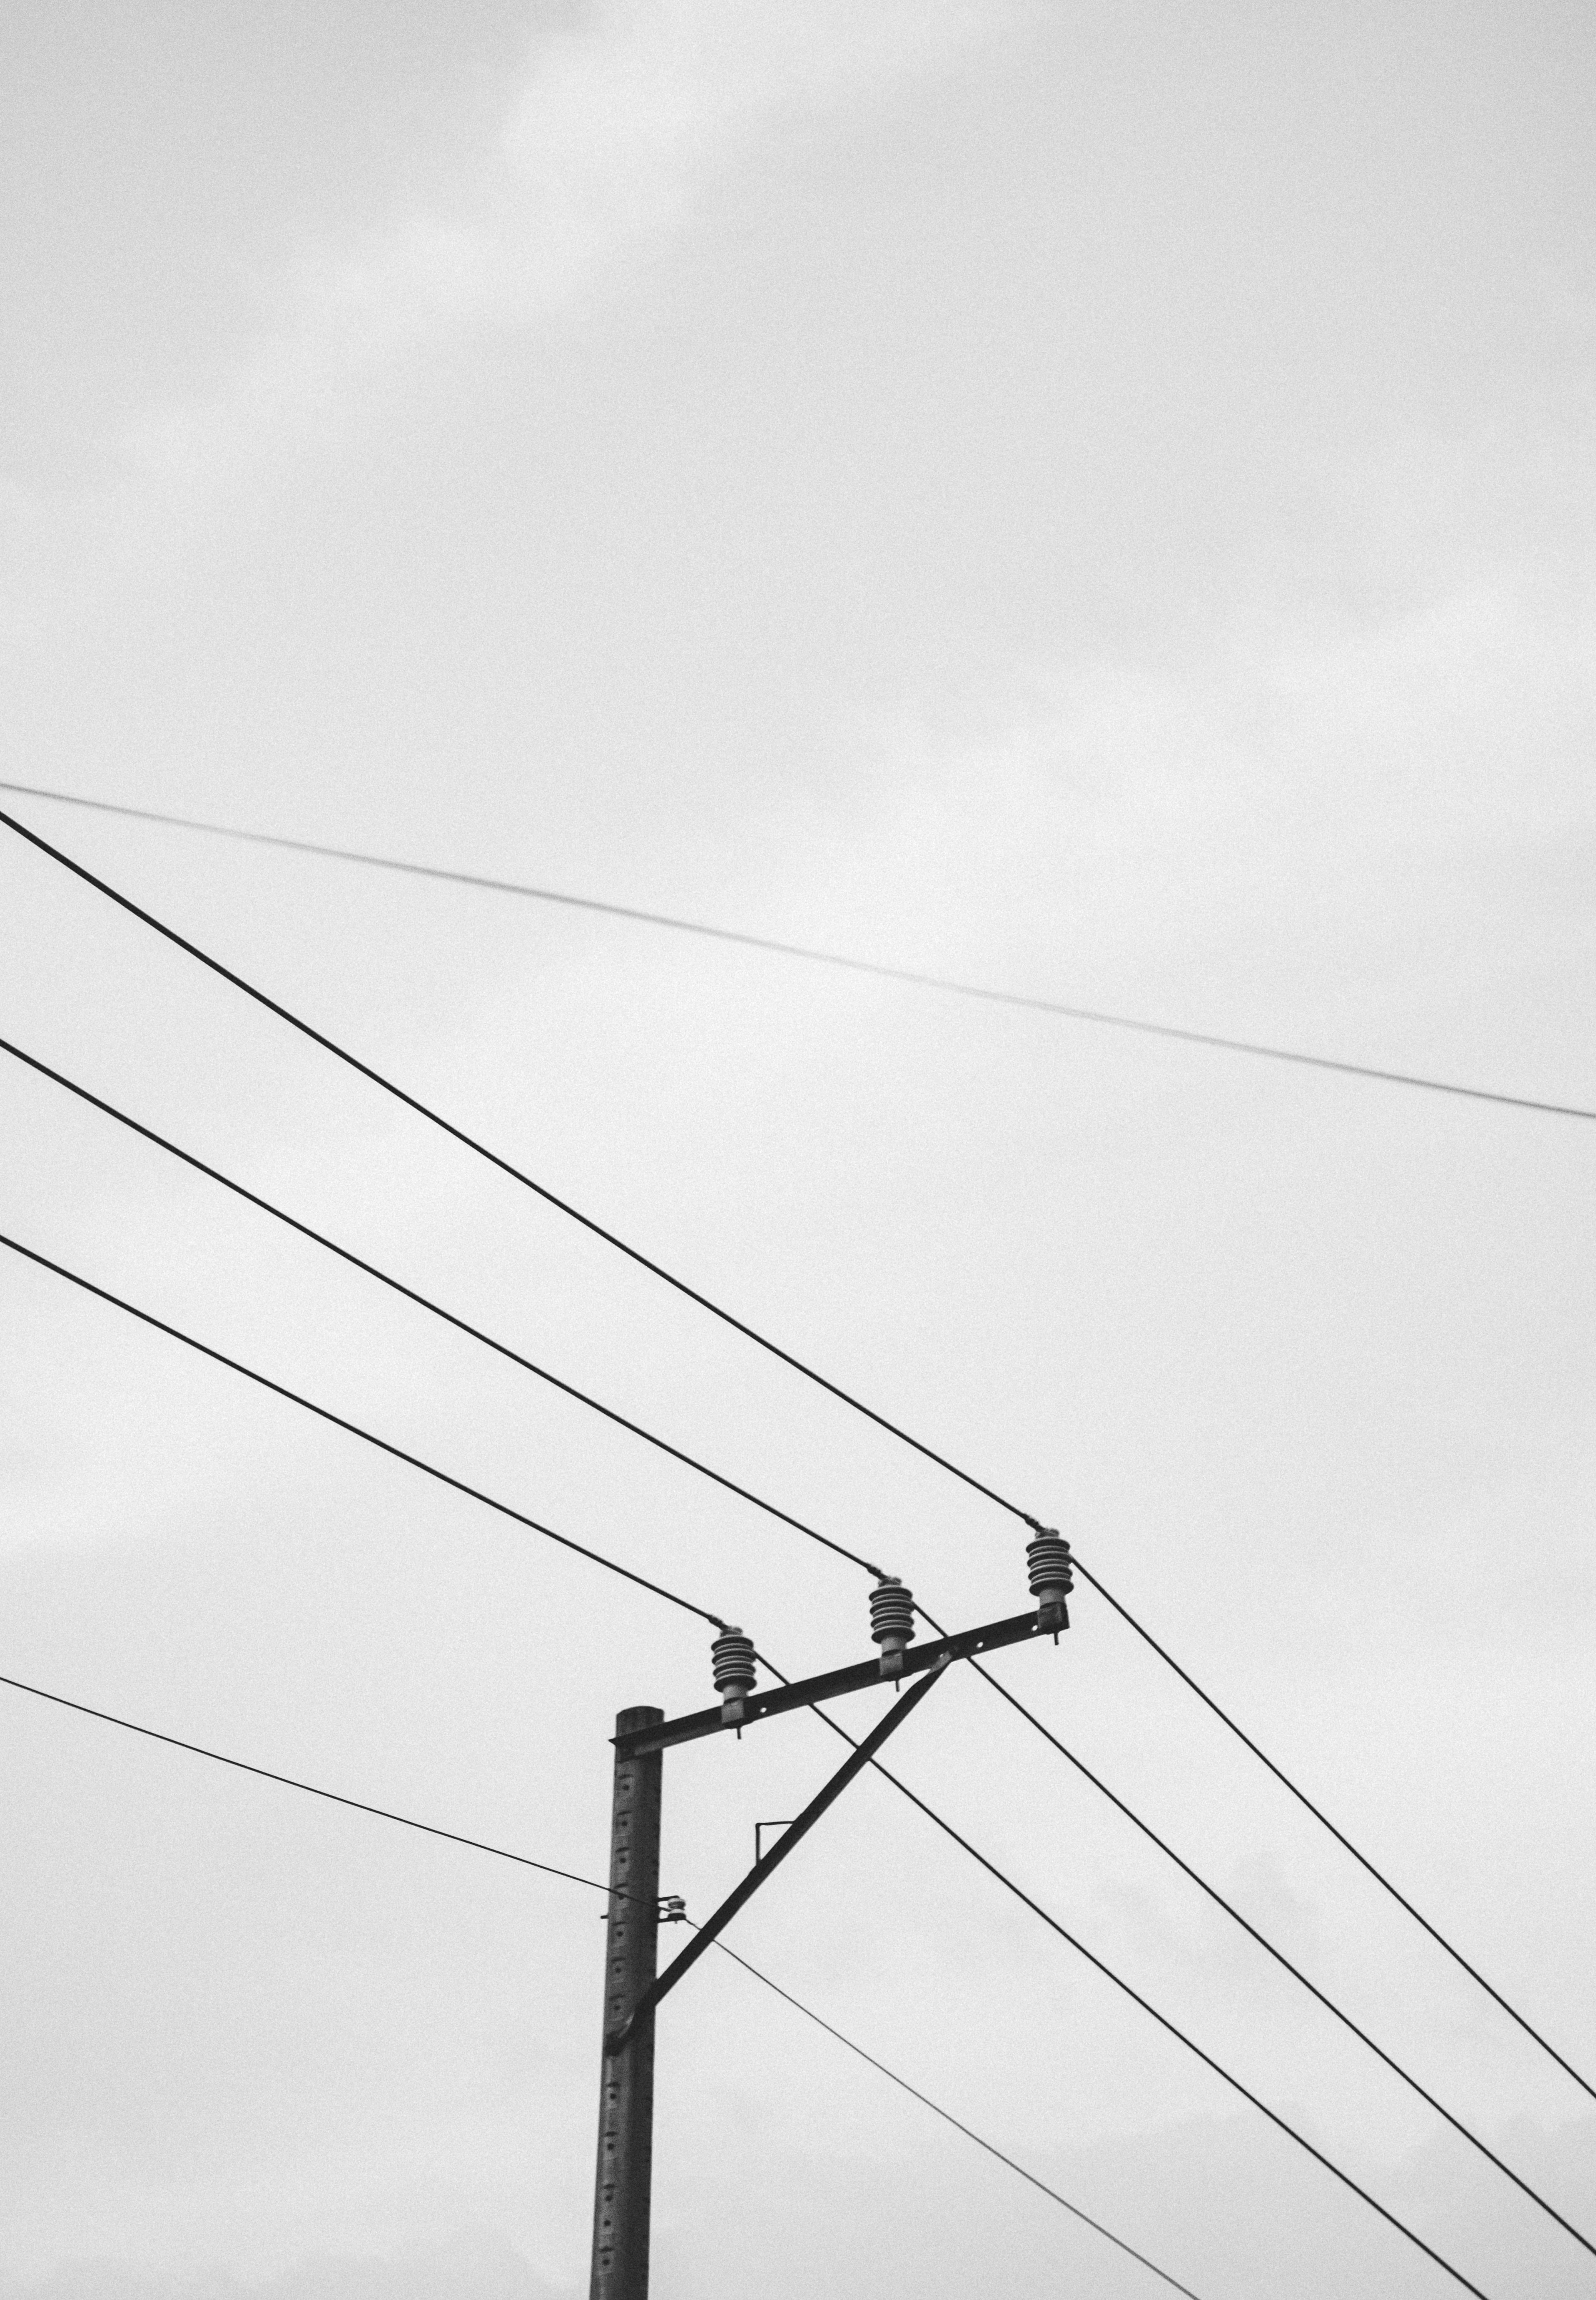utility_pole: (523, 1479, 1115, 1950)
